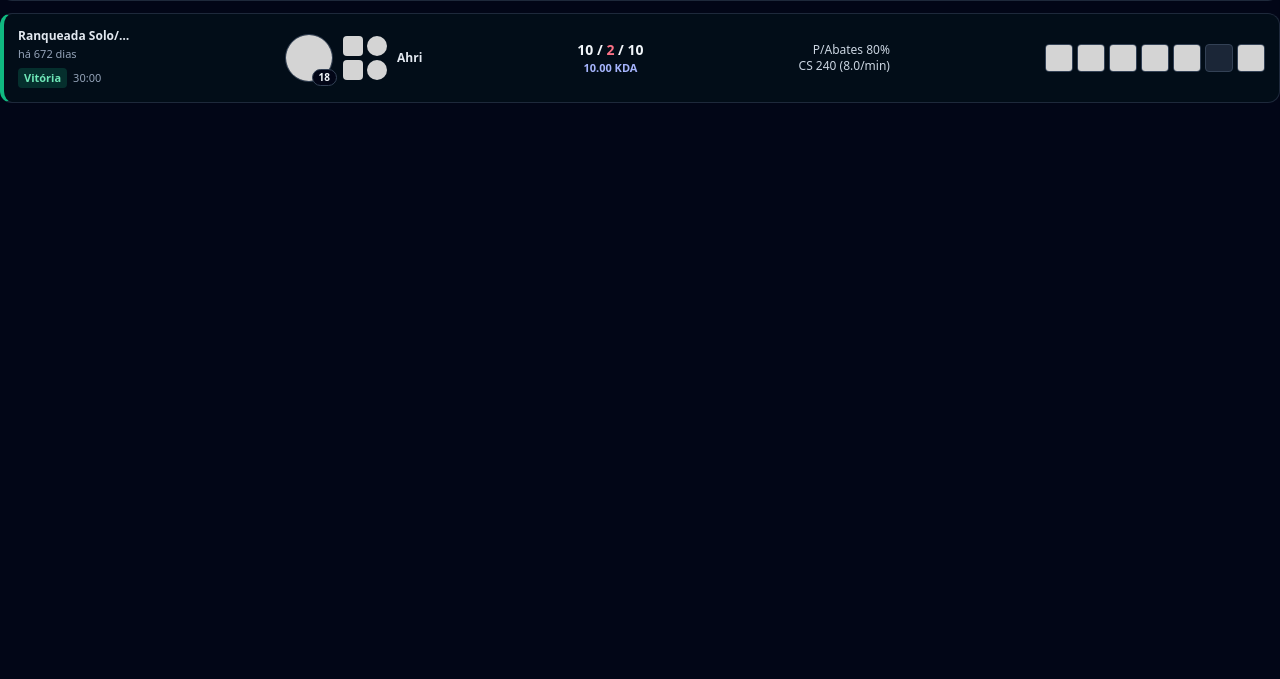
Test: MatchDetail › MATCH-01 expands inline detail with both teams on click
This screenshot has width=1280, height=679.
Step 1. Click the button with test id "match-row-BR1_100" → (640, 58), box [0,13,1279,103]
(page scrolled)
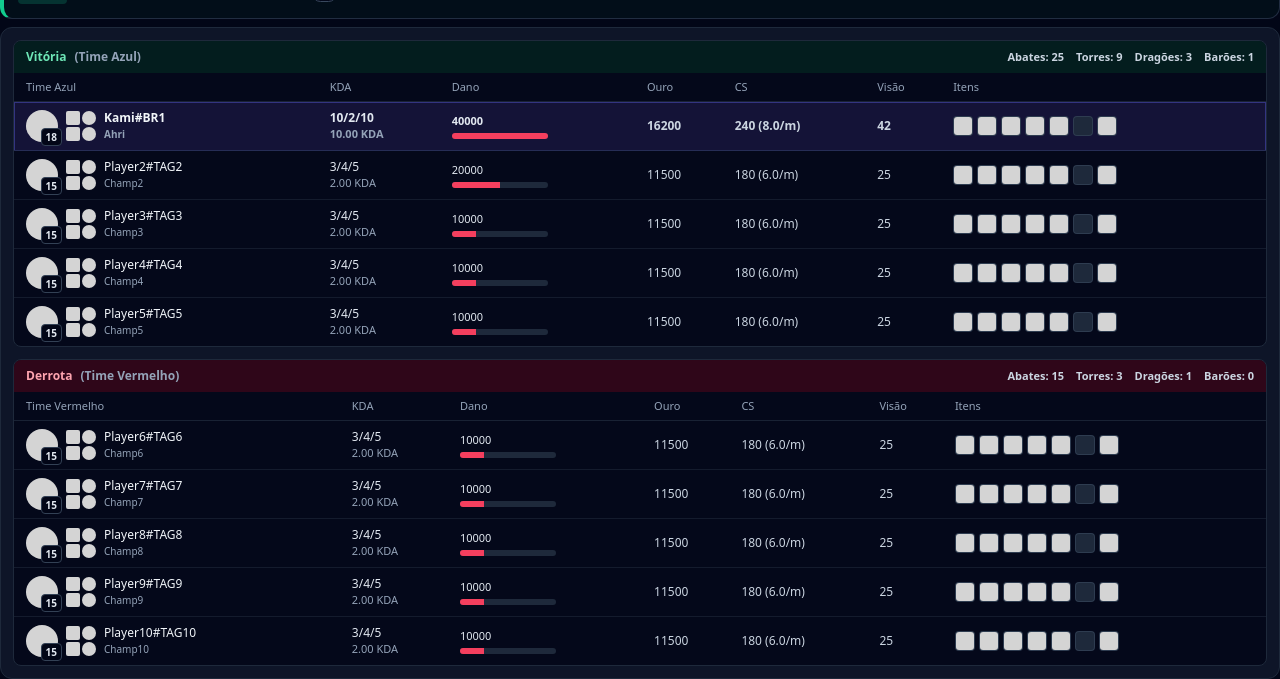
Expected: the element with test id "match-detail-BR1_100" is shown
Expected: the element with test id "match-team-100" is shown, [13,40,1267,347]
Expected: the element with test id "match-team-200" is shown, [13,359,1267,666]
